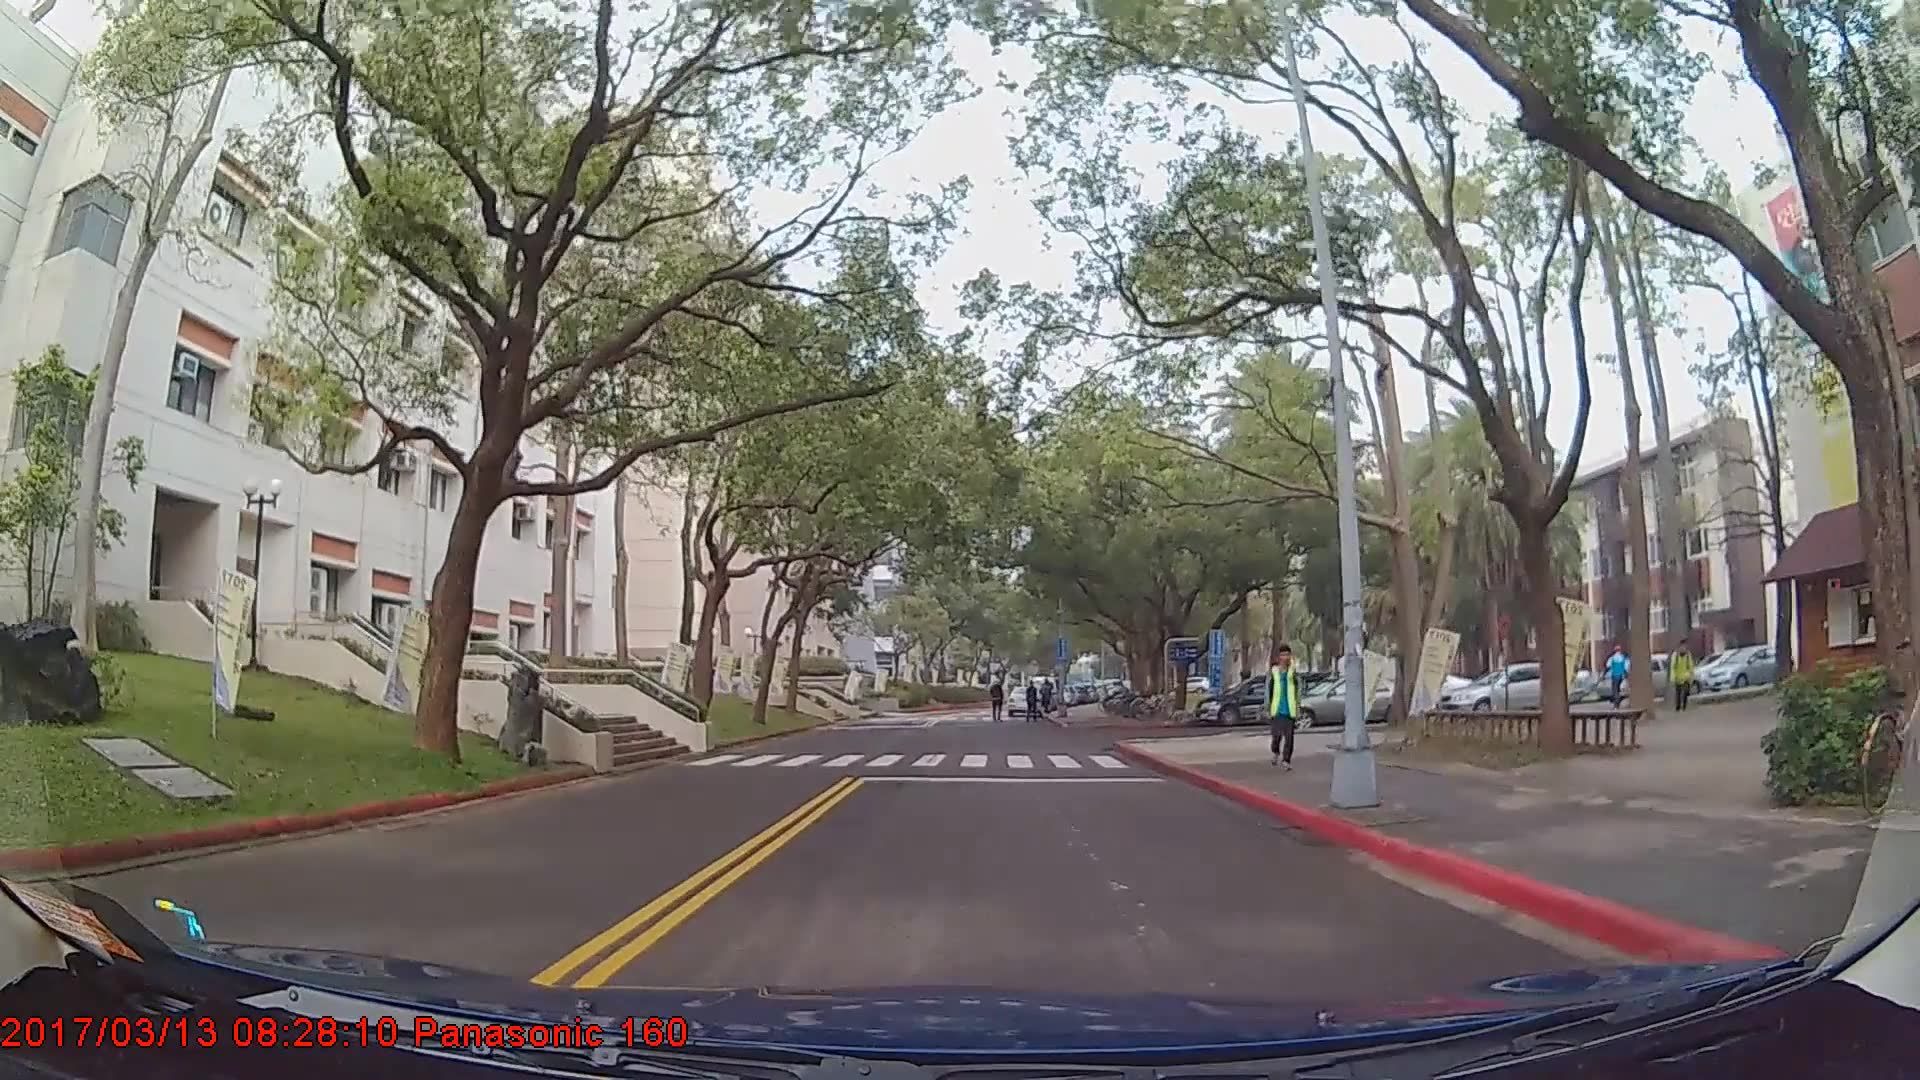pedestrian: (1265, 650, 1308, 780), (1605, 640, 1638, 718), (1670, 645, 1694, 717), (1023, 681, 1043, 725)
vehicle: (1440, 659, 1575, 719), (1286, 675, 1423, 726), (1198, 673, 1320, 727), (1699, 644, 1791, 693)
